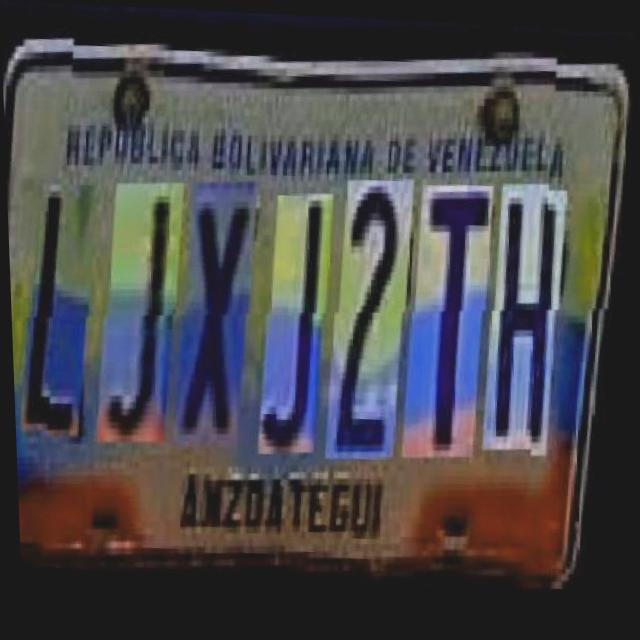2: (327, 178, 426, 464)
h: (484, 182, 578, 456)
j: (98, 180, 194, 446), (260, 192, 344, 458)
l: (21, 181, 109, 441)
t: (403, 182, 505, 463)
x: (175, 179, 268, 453)
